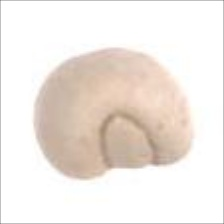L5: (98, 108, 159, 173)
L6: (31, 45, 194, 182)
